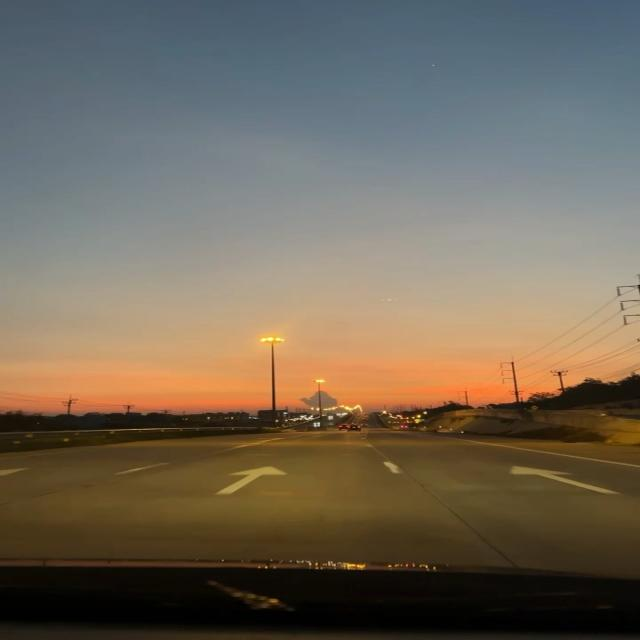Poth-hole: (30, 466, 427, 511)
